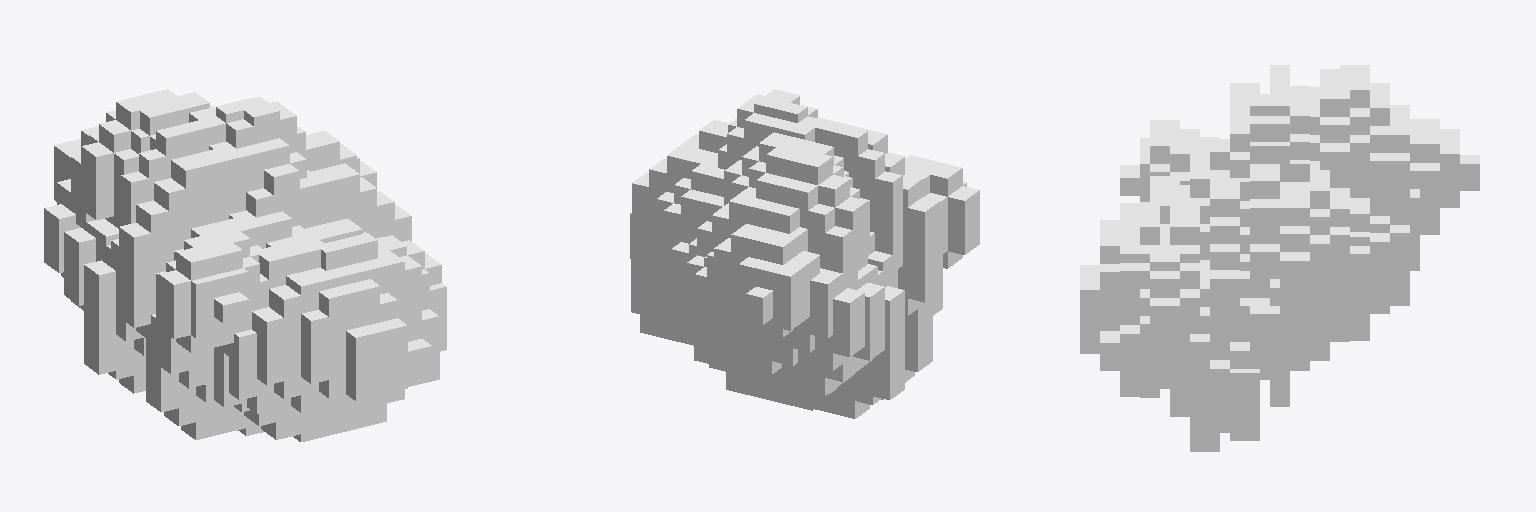
File: Cloud2.obj
3 views of the same model, side by side, from view 1: azimuth 30°, elevation 25°; view 2: azimuth 150°, elevation 25°; view 3: azimuth 270°, elevation 25° (orthographic).
Parts seen in each view (by area): view 1: object 1; view 2: object 1; view 3: object 1.
Part boxes in pixels (x1,y1,x2,y2): object 1: (44, 89, 446, 441); object 1: (630, 89, 979, 418); object 1: (1080, 65, 1479, 451).
Size of the model in its own units: 3.4 by 3.4 by 4.